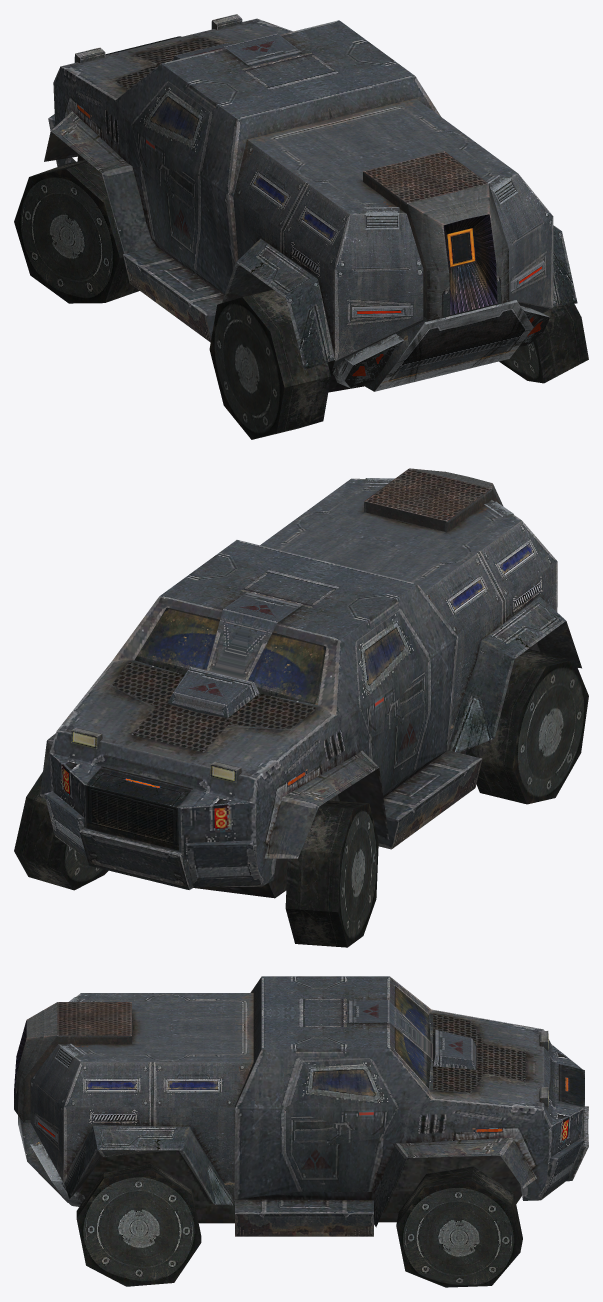
Rendered from Vehicle_Car001_lod1.glb.
3 views of the same model, one above another, from view 1: azimuth 30°, elevation 25°; view 2: azimuth 150°, elevation 25°; view 3: azimuth 270°, elevation 25° (orthographic). The views are drawn at different scales.
Parts seen in each view (by area): view 1: tianwang_car001_lod1; view 2: tianwang_car001_lod1; view 3: tianwang_car001_lod1.
Part boxes in pixels (<box>): tianwang_car001_lod1: <box>14,14,588,439</box>; tianwang_car001_lod1: <box>14,468,588,947</box>; tianwang_car001_lod1: <box>14,976,588,1287</box>.
Size of the model in its own units: 4.06 by 3.04 by 7.36.
Materials: 1 (1 with a texture image).
